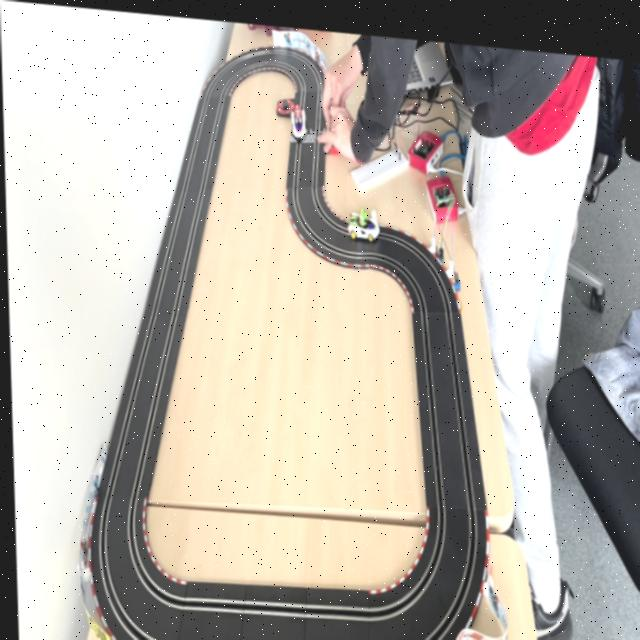mario: (290, 96, 307, 135)
yoshi: (344, 197, 381, 236)
